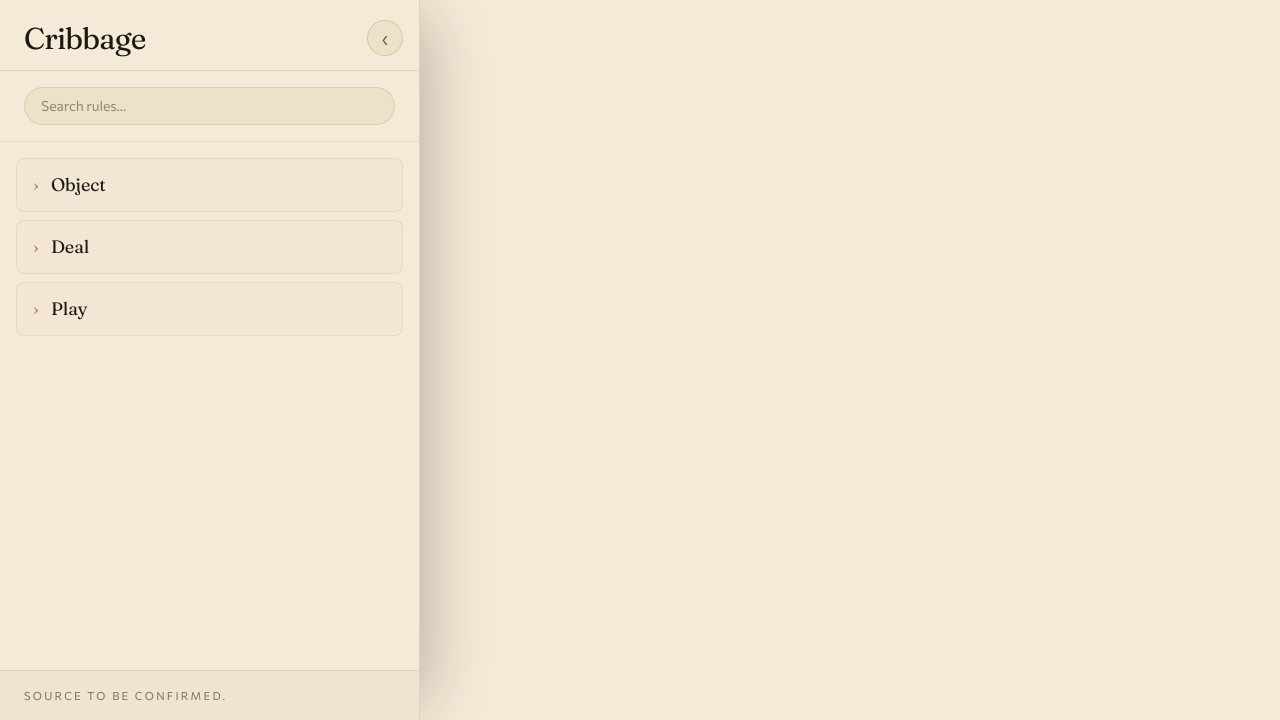
Test: <RulesPanel /> › opens only one accordion section at a time
Click the button "› Object" at point(78, 184), box x1=17 y1=159 x2=402 y2=211
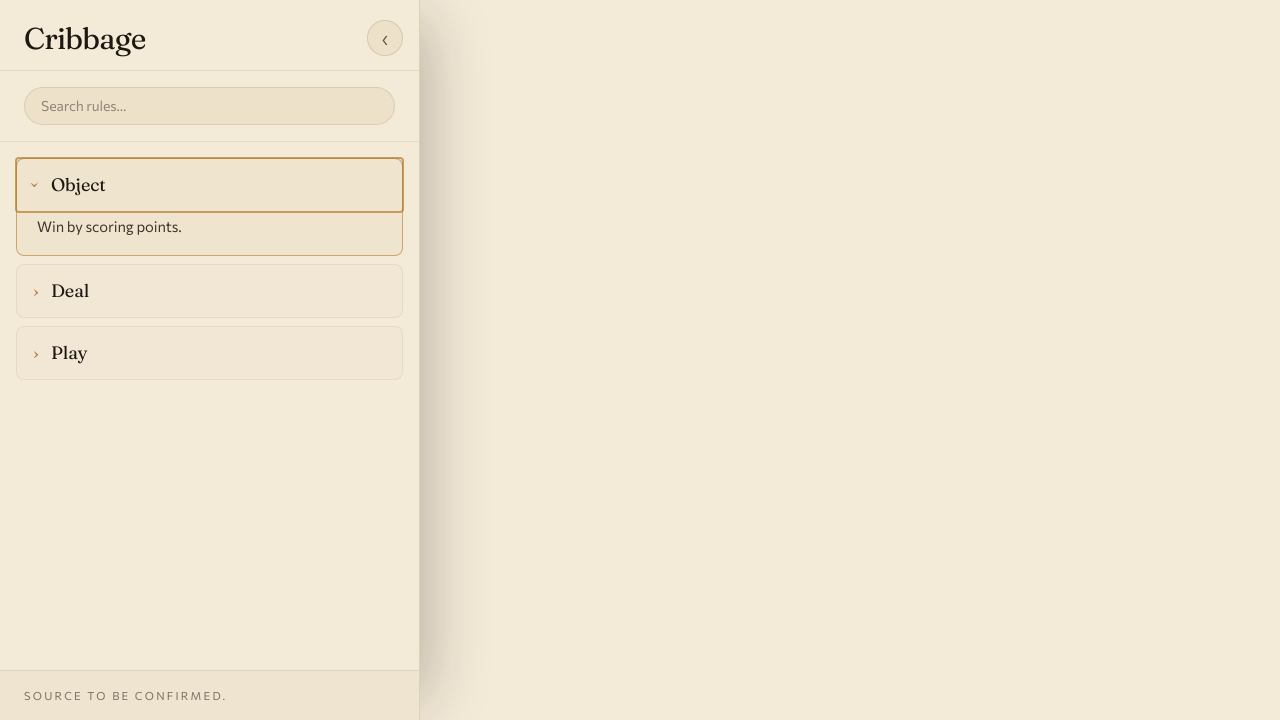
Check: the text "Win by scoring points." is shown, box x1=37 y1=217 x2=182 y2=235
Click the button "› Deal" at point(70, 290), box x1=17 y1=265 x2=402 y2=317
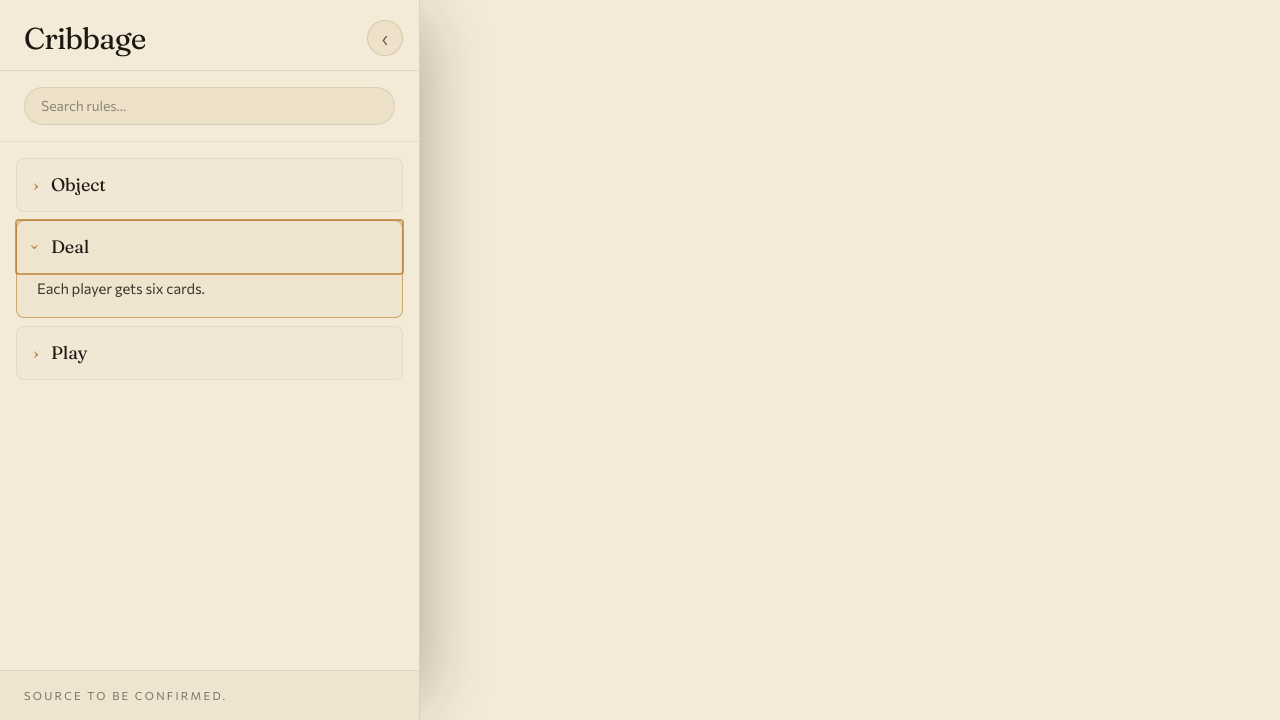
Check: the button "› Deal" is expanded, box x1=17 y1=221 x2=402 y2=273
